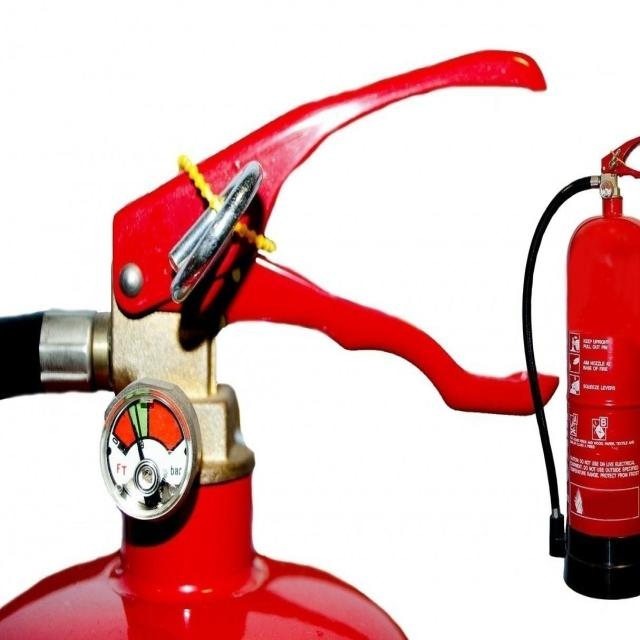fire_extinguisher: (0, 43, 561, 639), (513, 129, 639, 602)
